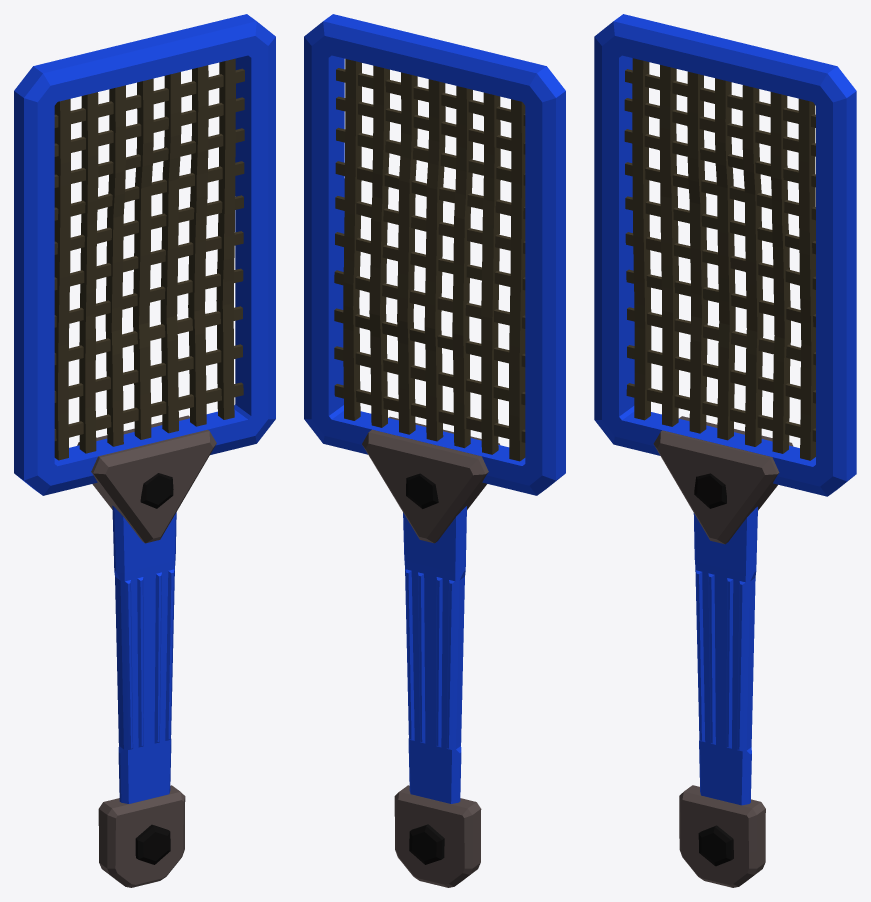
File: ENV_Object_Paddle_01.fbx
3 renders of one model, left to right at view 1: azimuth 30°, elevation 25°; view 2: azimuth 150°, elevation 25°; view 3: azimuth 330°, elevation 25°, orthographic.
Parts seen in each view (by area): view 1: ENV_Object_Paddle_01; view 2: ENV_Object_Paddle_01; view 3: ENV_Object_Paddle_01.
Boxes of the visible parts, <box> form: ENV_Object_Paddle_01: <box>14,14,275,887</box>; ENV_Object_Paddle_01: <box>304,14,565,887</box>; ENV_Object_Paddle_01: <box>594,14,856,887</box>.
Bounding box in the file's own units: 35.43 × 112 × 7.48.
